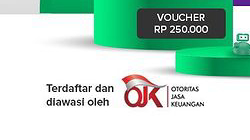ojk: (120, 73, 208, 110)
